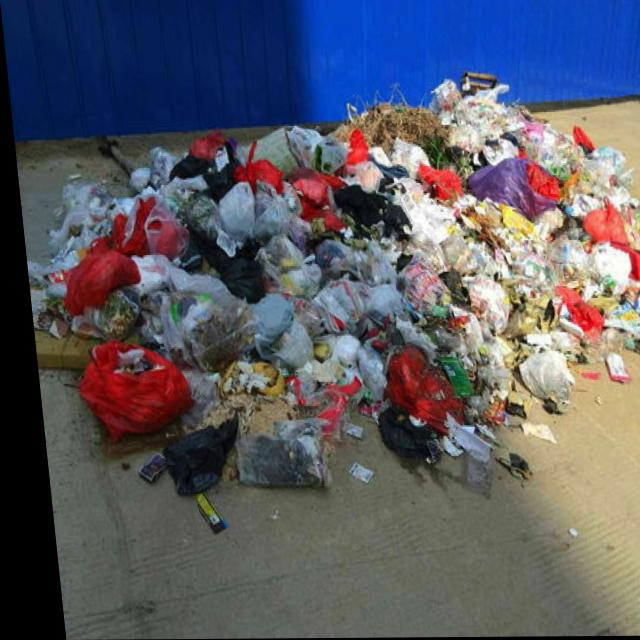garbage: (6, 71, 640, 533)
